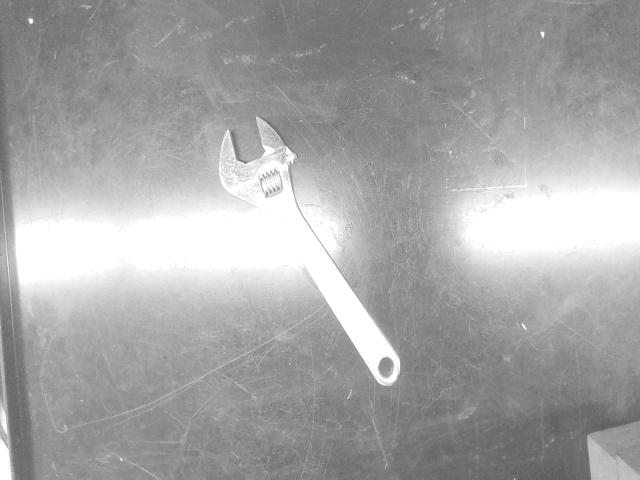Adjustable spanner: (219, 117, 400, 385)
